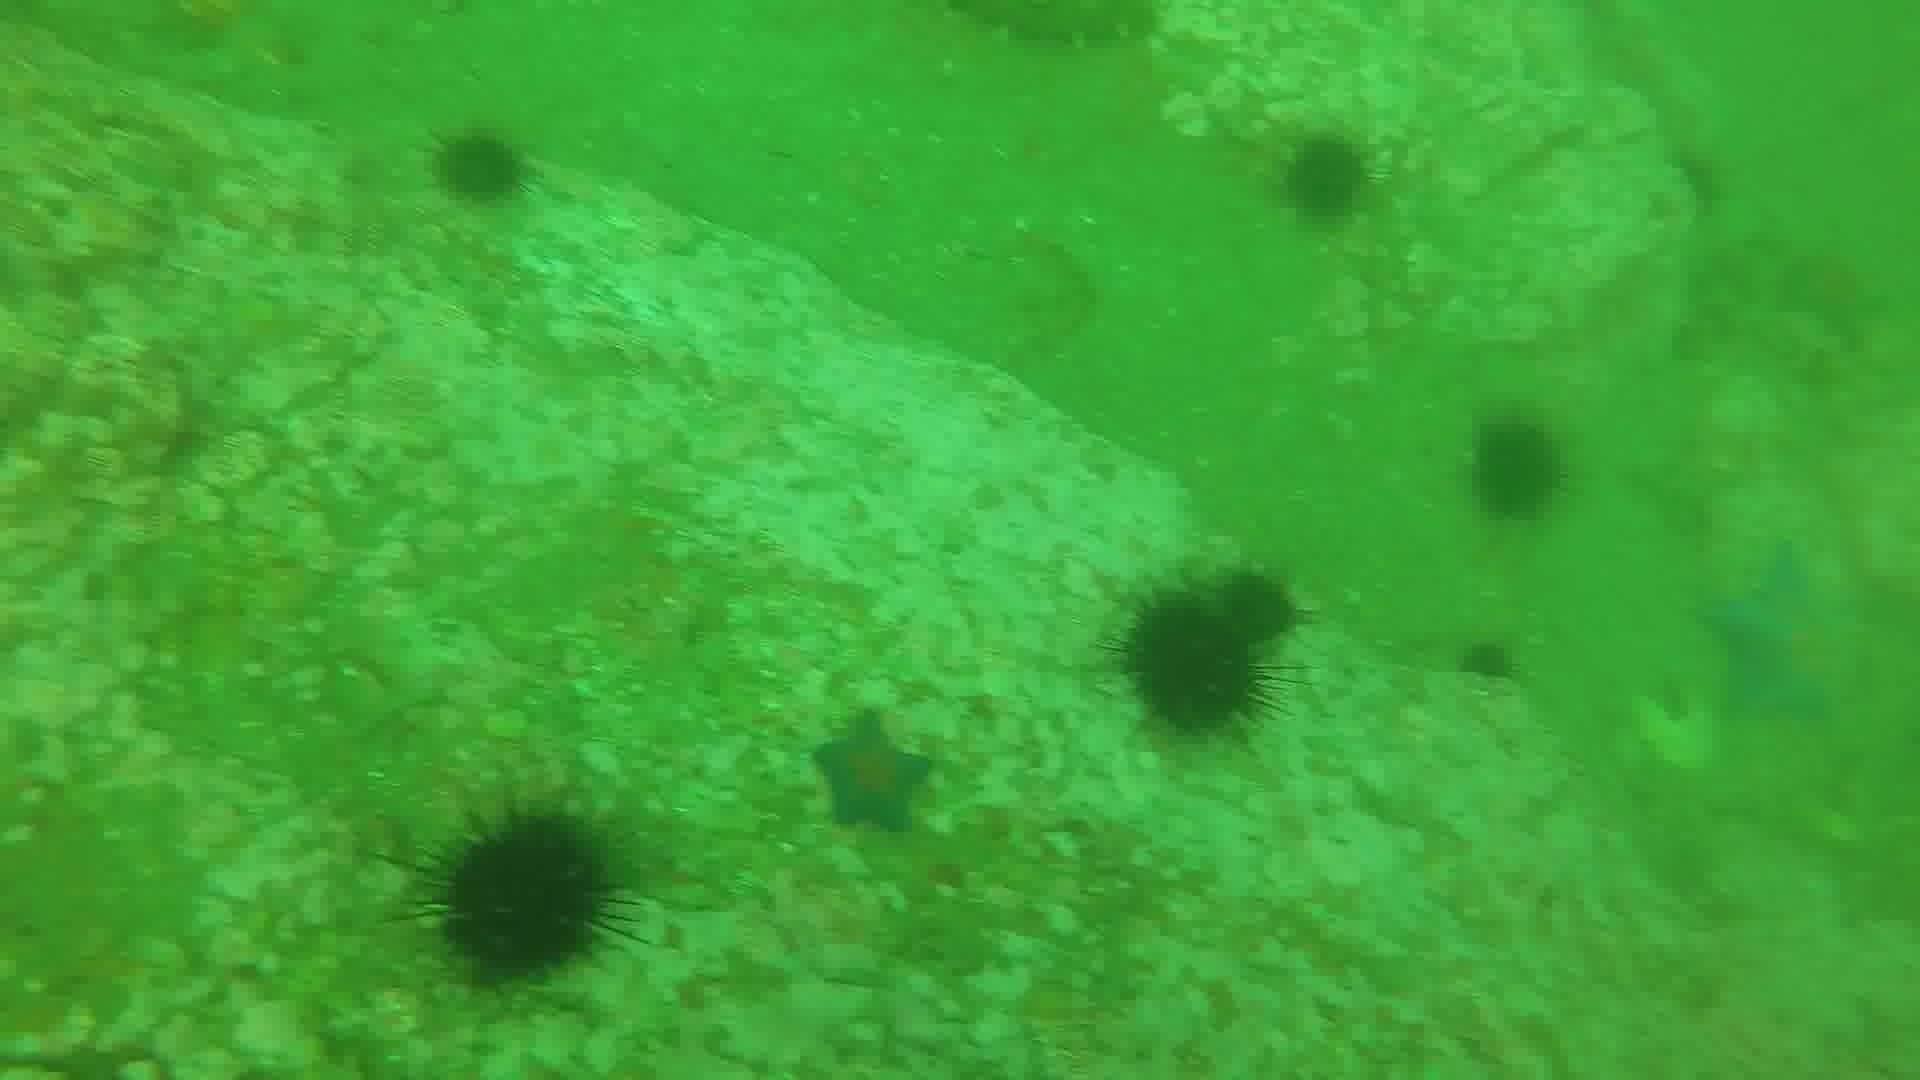echinus: (417, 803, 633, 989), (1108, 584, 1288, 742), (1462, 413, 1571, 526), (1276, 131, 1374, 228), (429, 127, 535, 210), (1211, 564, 1304, 647), (1665, 141, 1733, 214), (1452, 632, 1524, 690)
holothurian: (944, 0, 1171, 57)
starfish: (1698, 542, 1870, 731), (806, 709, 938, 837), (1768, 237, 1891, 349)
